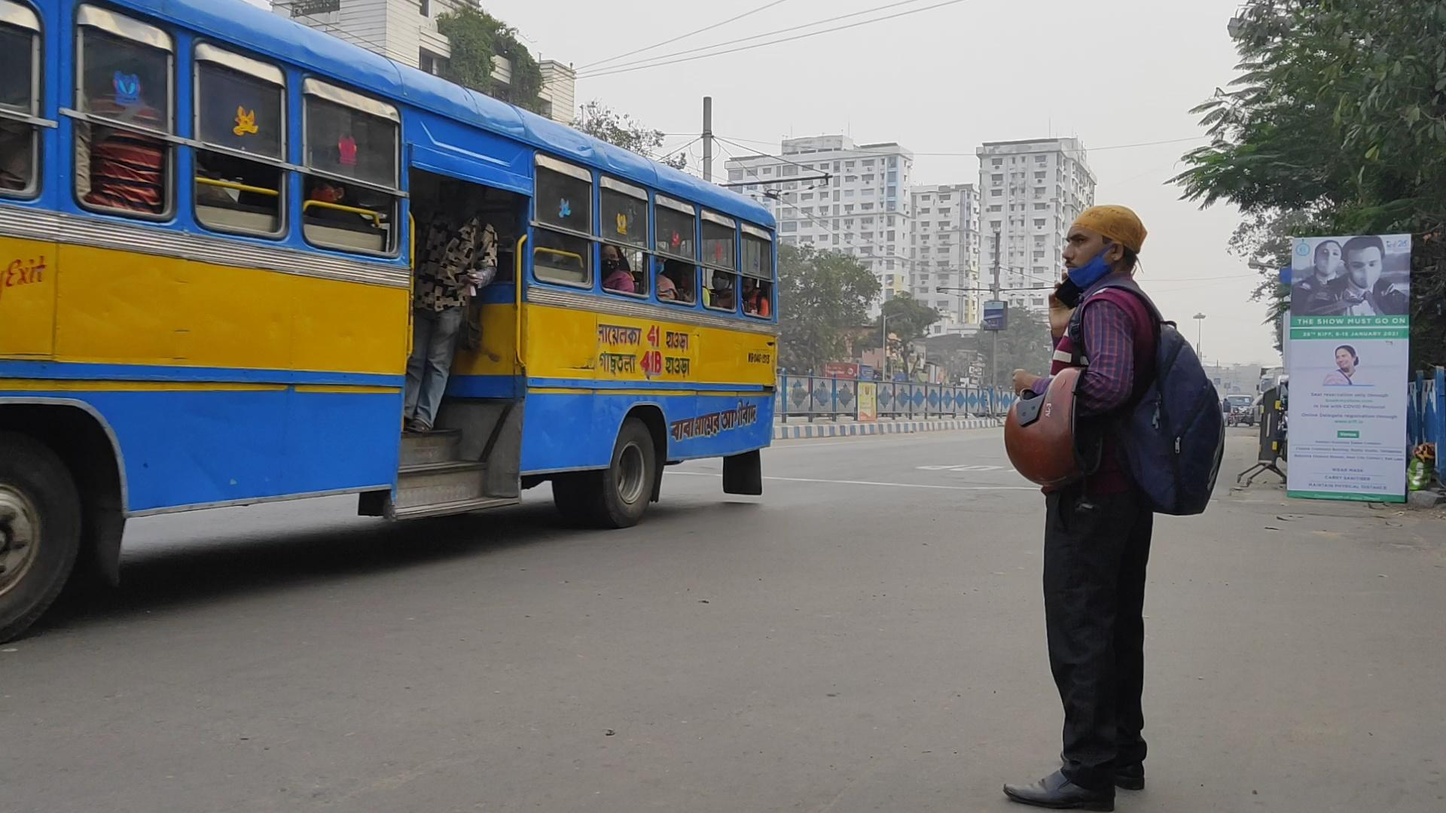Bus: (1, 2, 781, 638)
